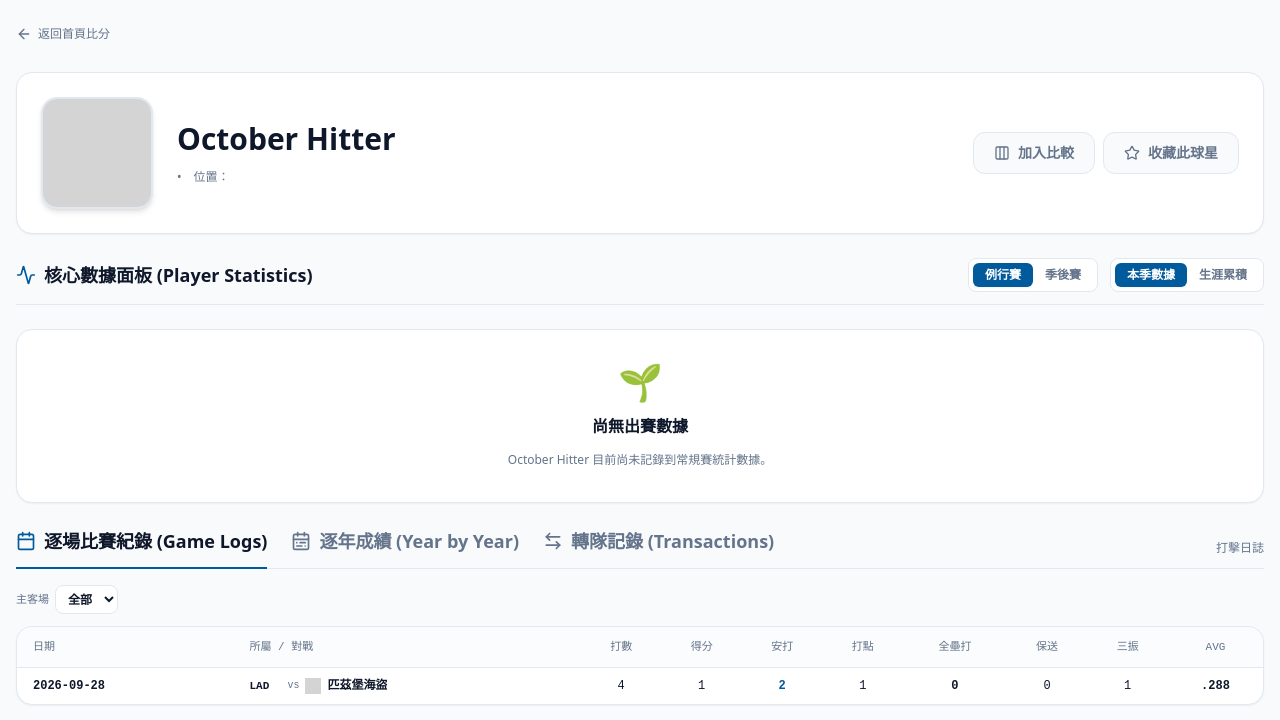
Test: PlayerDetailPage postseason games › says so when the player has no postseason games
Expected: the link "2026-09-28" is shown, [33,678,105,692]
Click the button "季後賽".
click(1063, 275)  # box [1033,263,1093,287]
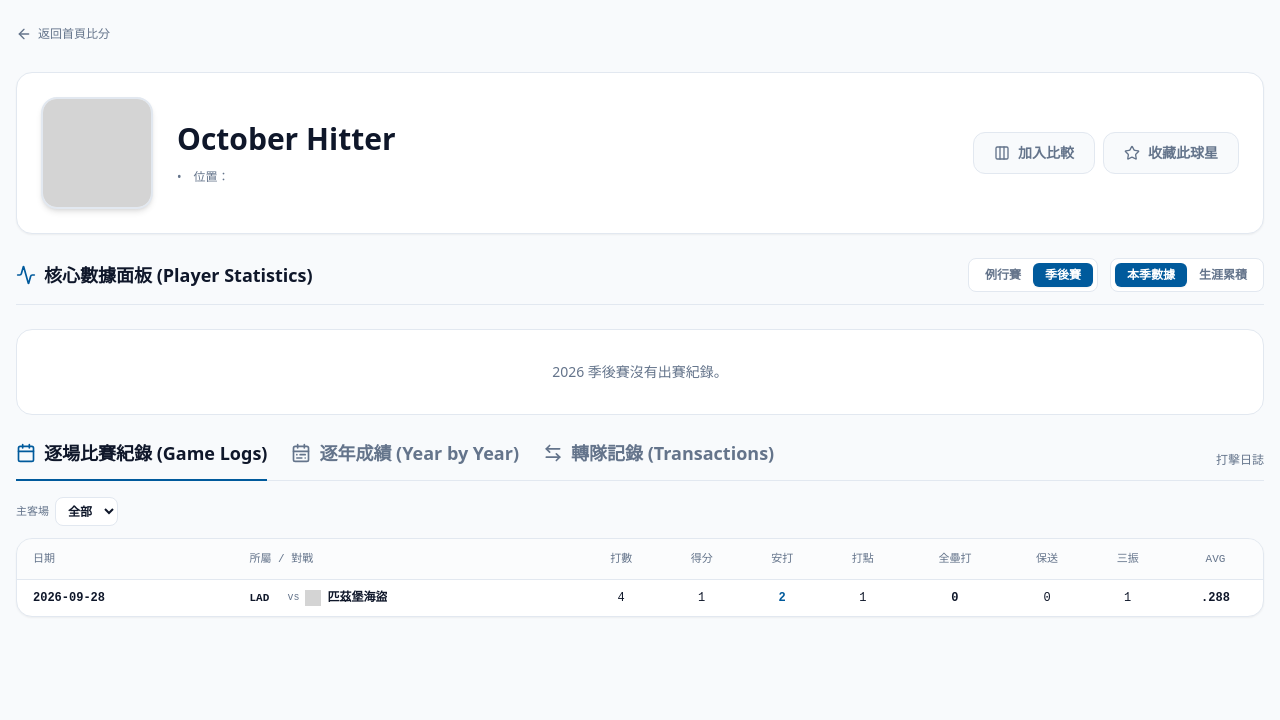
Expected: the text "2026 季後賽沒有出賽紀錄。" is shown, [16,329,1264,415]
